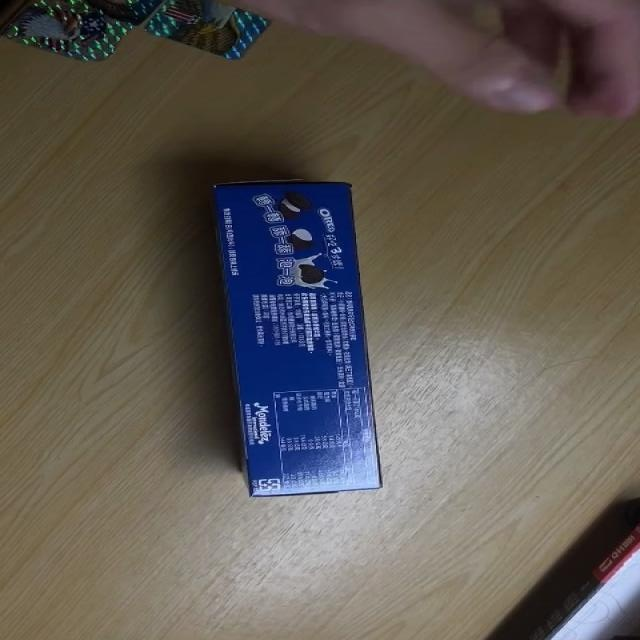Oreo: (218, 178, 382, 501)
